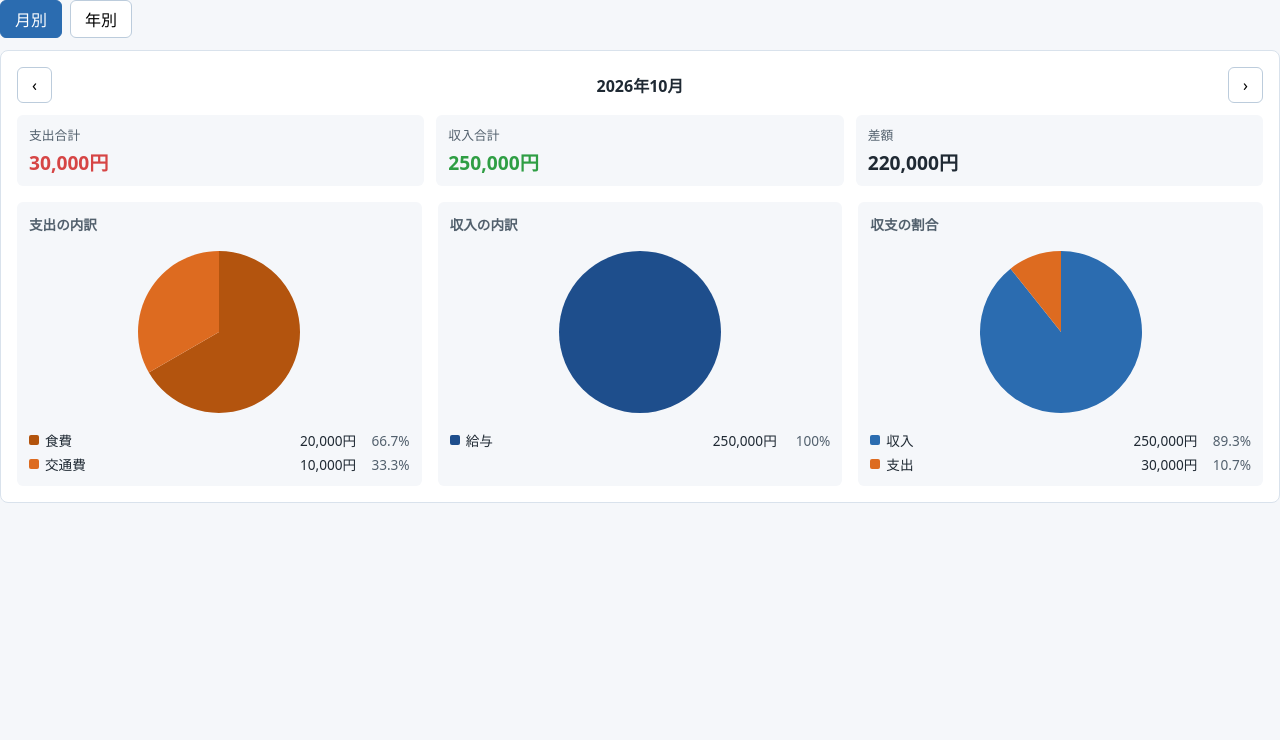
SummaryView › shows the year (January to December) with 12 monthly rows
What coordinates should you click on to do the following:
click the tab "年別"
I would click on:
 (101, 19)
Its box is [70, 0, 132, 38].
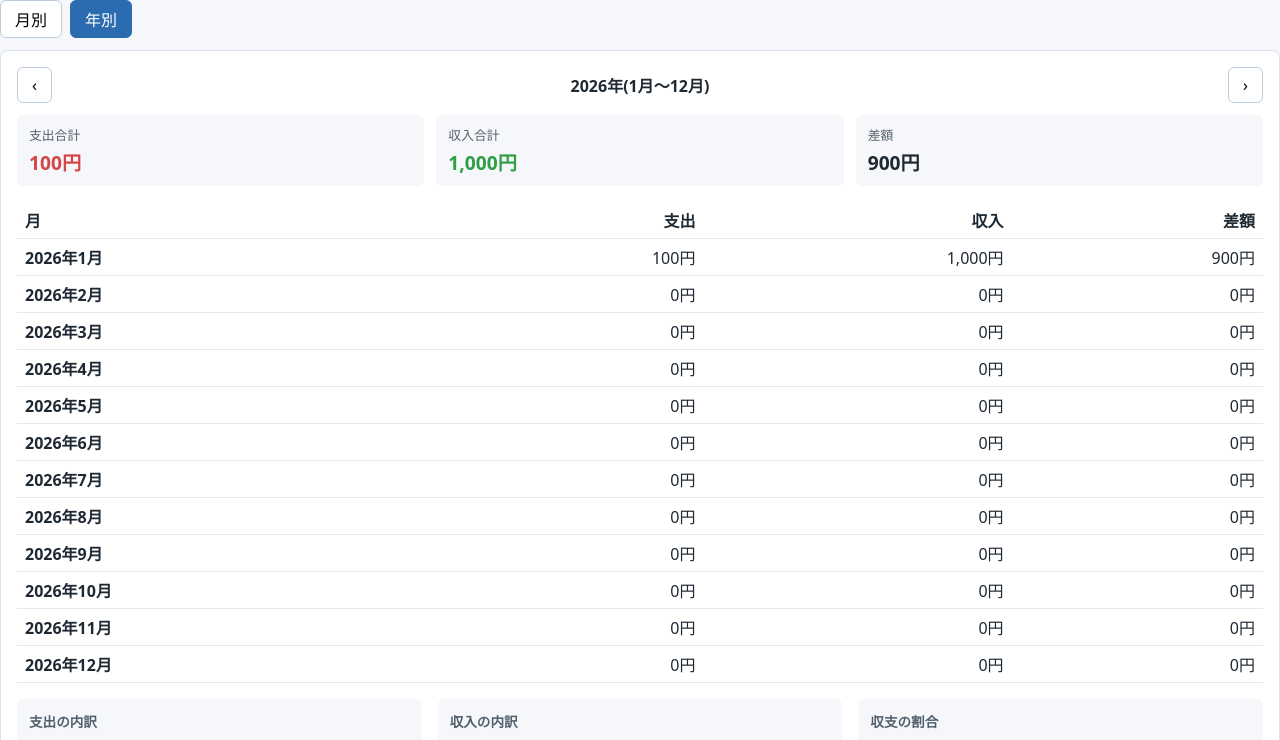
Expected: the text with test id "balance" reads "900円", [868, 149, 920, 176]
Expected: the row "2026年1月 100円 1,000円 900円" is shown, [17, 238, 1263, 276]
Expected: the row "2026年12月 0円 0円 0円" is shown, [17, 646, 1263, 682]
